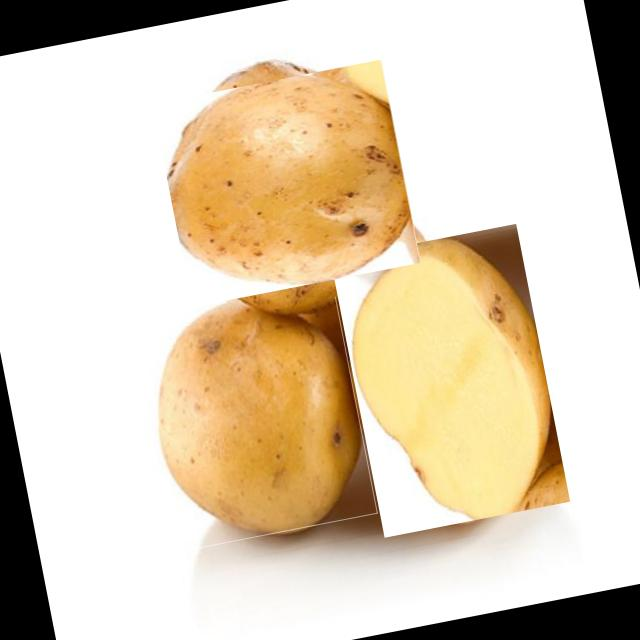potato: (330, 224, 572, 538), (158, 54, 416, 313), (133, 297, 378, 553)
